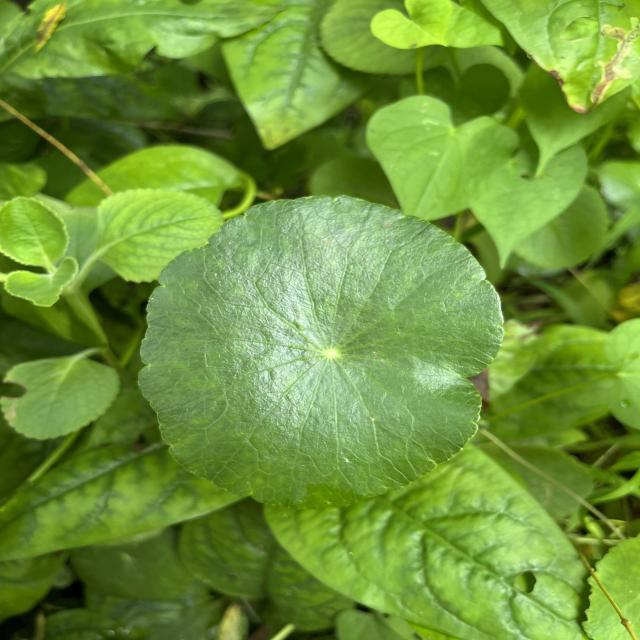Bacopa monnieri: (130, 188, 514, 520)
